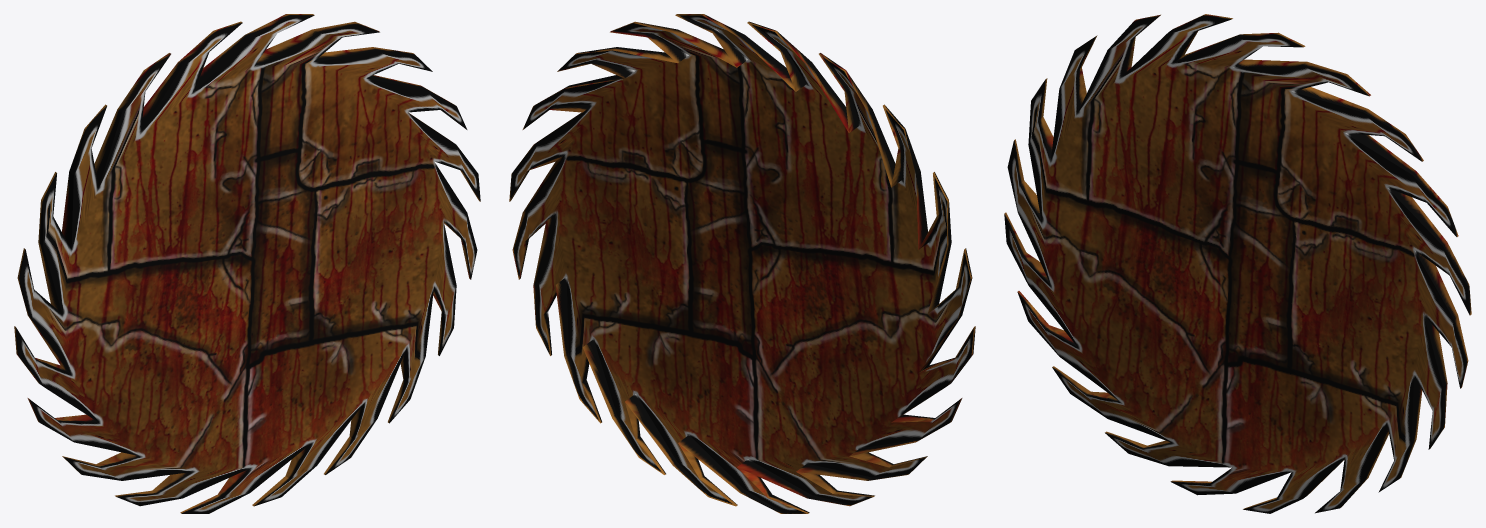
The model's file is circularsawblade.fbx.
The picture shows the model from 3 angles, left to right: view 1: azimuth 30°, elevation 25°; view 2: azimuth 150°, elevation 25°; view 3: azimuth 330°, elevation 25°; orthographic projection.
Parts seen in each view (by area): view 1: pCylinder1; view 2: pCylinder1; view 3: pCylinder1.
Part boxes in pixels (box(x1,y1,x2,y2)): pCylinder1: box(14, 14, 480, 513); pCylinder1: box(509, 14, 975, 513); pCylinder1: box(1004, 14, 1471, 513).
Size of the model in its own units: 2.44 by 2.44 by 0.1113.
